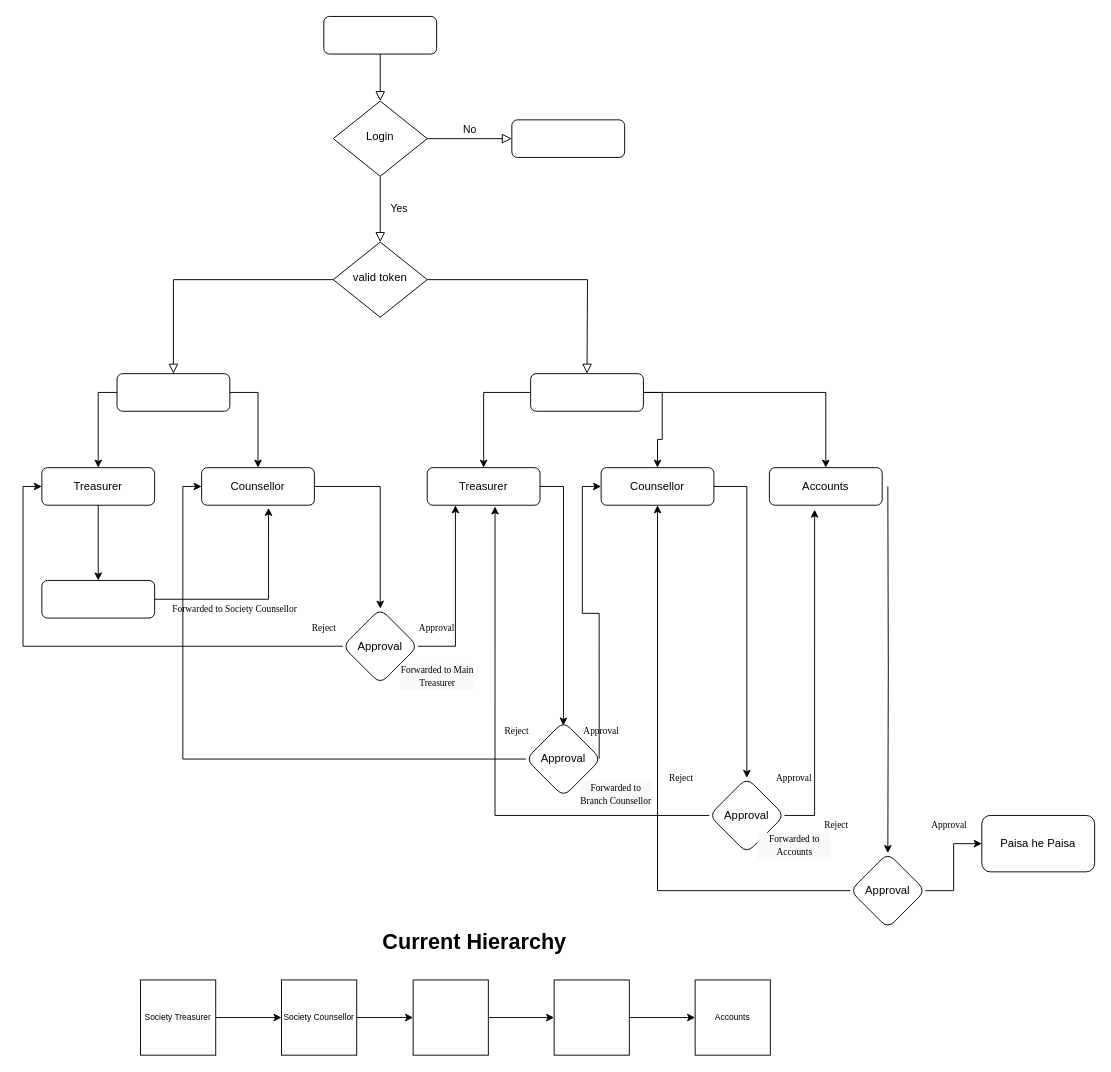
This 1111x1072 diagram has some shape labels left out. The shapes that lost their labels are listed below. From the top down, each one's centre as x and y in pixels, then its label:
At (380,35): "user Input".
At (568,138): "Bye bye...".
At (173,392): "Society Level".
At (586,392): "Main Level".
At (98,599): "New Transaction".
At (450,1017): "Main Treasurer".
At (591,1017): "Branch Counsellor".
